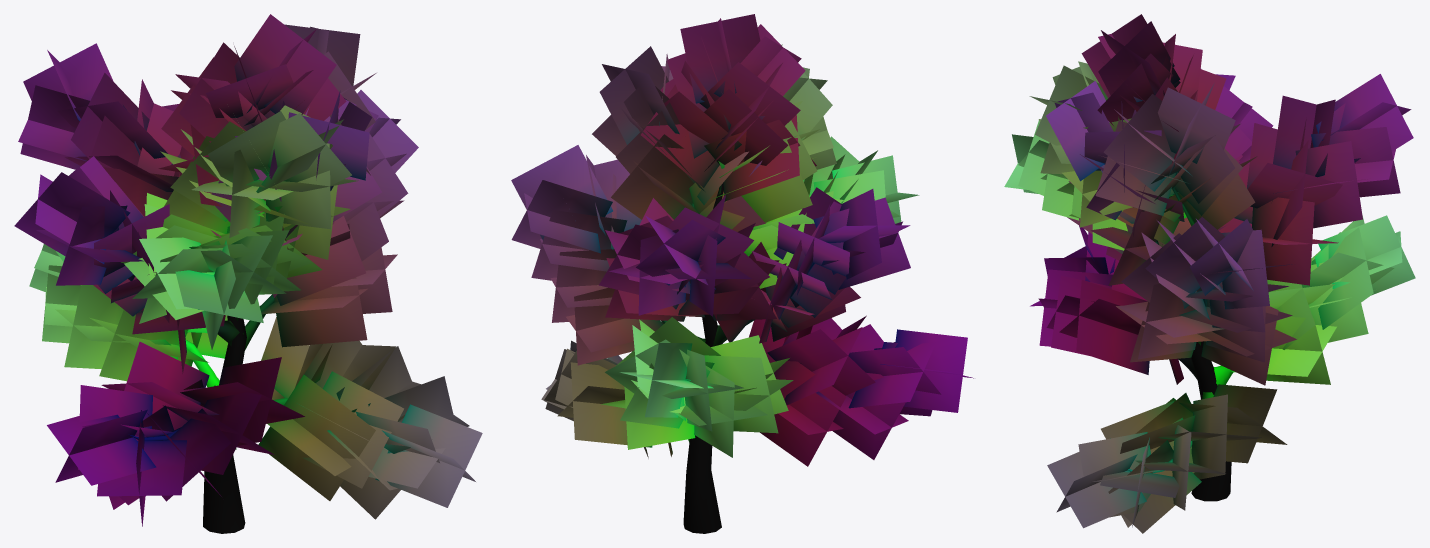
File: URP_P11_Tree_2_LOD_2.fbx
3 renders of one model, left to right at view 1: azimuth 30°, elevation 25°; view 2: azimuth 150°, elevation 25°; view 3: azimuth 270°, elevation 25°, orthographic. The views are drawn at different scales.
Parts seen in each view (by area): view 1: Tree_2_LOD_2; view 2: Tree_2_LOD_2; view 3: Tree_2_LOD_2.
Part boxes in pixels (<box>): Tree_2_LOD_2: <box>14,14,482,533</box>; Tree_2_LOD_2: <box>511,14,973,533</box>; Tree_2_LOD_2: <box>1004,14,1415,533</box>.
Size of the model in its own units: 586 by 710 by 554.
